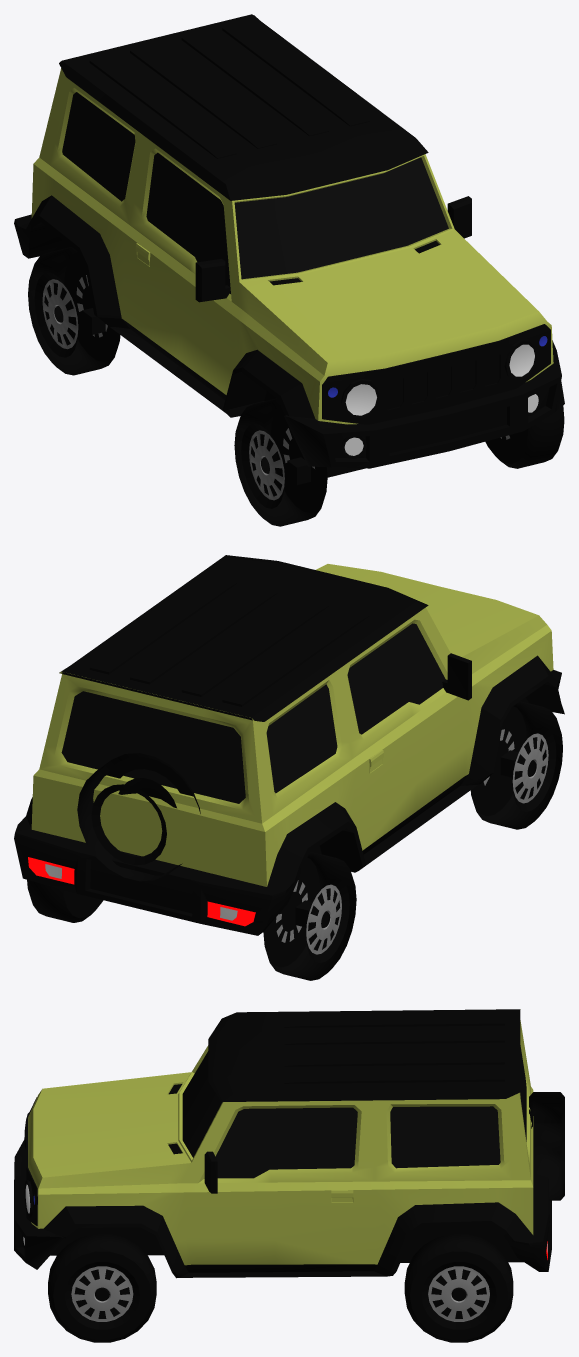
The model's file is Jimmy.fbx.
The picture shows the model from 3 angles, top to bottom: view 1: azimuth 30°, elevation 25°; view 2: azimuth 150°, elevation 25°; view 3: azimuth 270°, elevation 25°; orthographic projection. The views are drawn at different scales.
Visible parts, largest first — view 1: Cube_5, Cylinder.002_2, Cylinder.003_3, Cylinder_0, Cube.001_7; view 2: Cube_5, Cylinder.003_3, Cylinder.002_2, Cylinder.004_4, Cylinder.001_1, Cube.001_7; view 3: Cube_5, Cylinder.001_1, Cylinder_0, Cylinder.004_4.
Boxes of the visible parts, x1,y1,x2,y2 form: Cube_5: (14, 14, 564, 468); Cylinder.002_2: (234, 398, 327, 526); Cylinder.003_3: (28, 247, 120, 375); Cylinder_0: (485, 405, 564, 468); Cube.001_7: (82, 308, 365, 484); Cube_5: (14, 555, 564, 935); Cylinder.003_3: (263, 852, 356, 980); Cylinder.002_2: (470, 701, 562, 829); Cylinder.004_4: (77, 753, 200, 881); Cylinder.001_1: (27, 880, 103, 922); Cube.001_7: (295, 750, 518, 927); Cube_5: (14, 1009, 551, 1278); Cylinder.001_1: (404, 1233, 513, 1342); Cylinder_0: (48, 1233, 156, 1342); Cylinder.004_4: (529, 1092, 564, 1200).
Size of the model in its own units: 1871 by 1811 by 3779.
